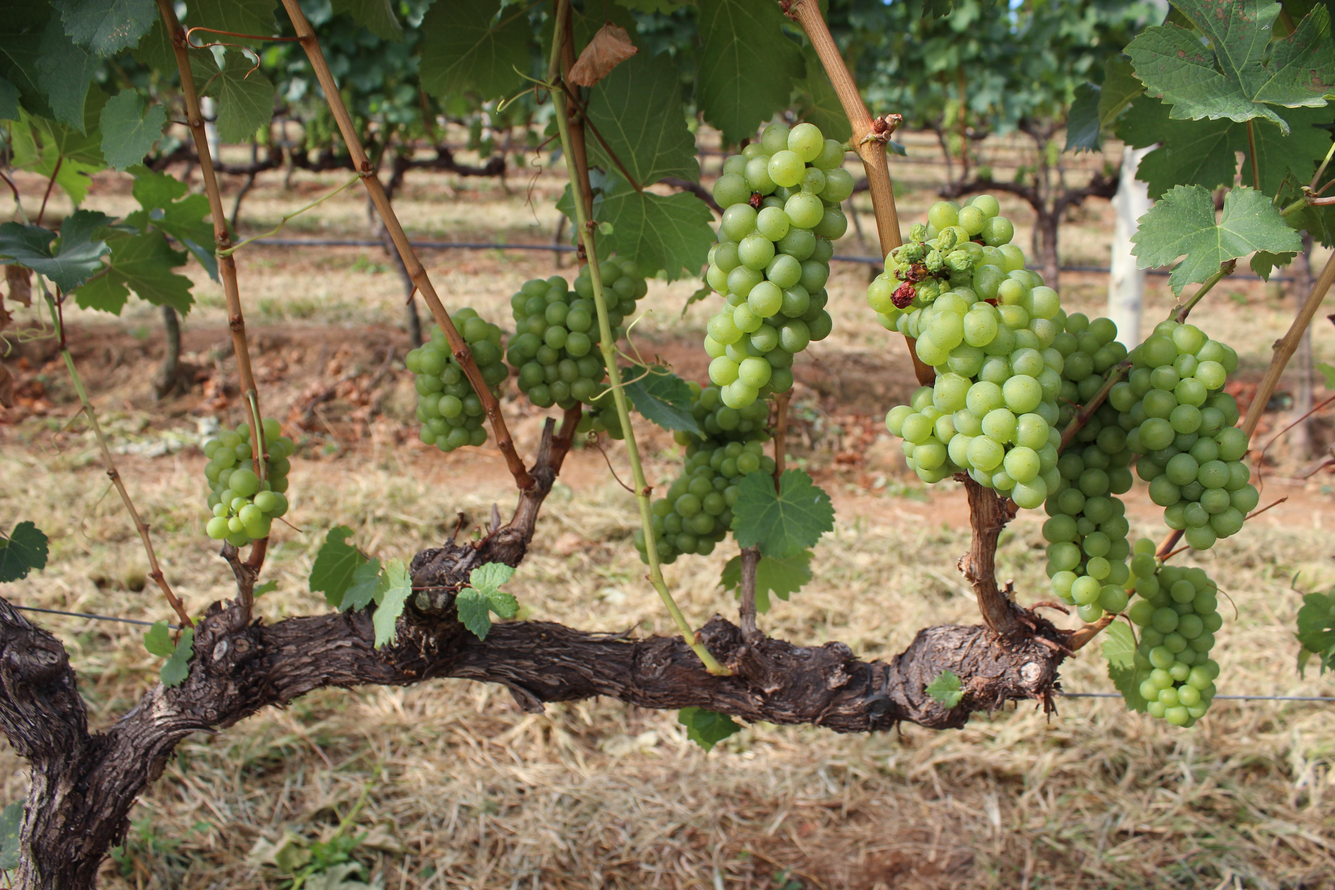leaf: (1126, 0, 1335, 134), (1117, 96, 1335, 198), (1132, 185, 1301, 294), (696, 0, 804, 143), (587, 52, 698, 186), (595, 173, 714, 280), (420, 0, 531, 100), (73, 232, 193, 314), (0, 210, 112, 292), (733, 469, 834, 558), (35, 14, 101, 131), (205, 49, 274, 142), (51, 0, 157, 56), (621, 365, 704, 435), (793, 46, 851, 142), (99, 89, 166, 171), (309, 525, 367, 608), (456, 563, 518, 639), (185, 0, 278, 47), (1101, 622, 1147, 712), (755, 550, 813, 613), (373, 559, 412, 649), (331, 0, 403, 41), (0, 521, 48, 582), (678, 706, 741, 752), (339, 558, 386, 611), (160, 628, 194, 688), (0, 802, 24, 871), (1101, 622, 1136, 668), (925, 669, 963, 708), (143, 619, 176, 657), (0, 76, 20, 121), (721, 555, 741, 591), (588, 138, 611, 166), (1316, 363, 1335, 390), (196, 39, 203, 42), (595, 161, 596, 162)
